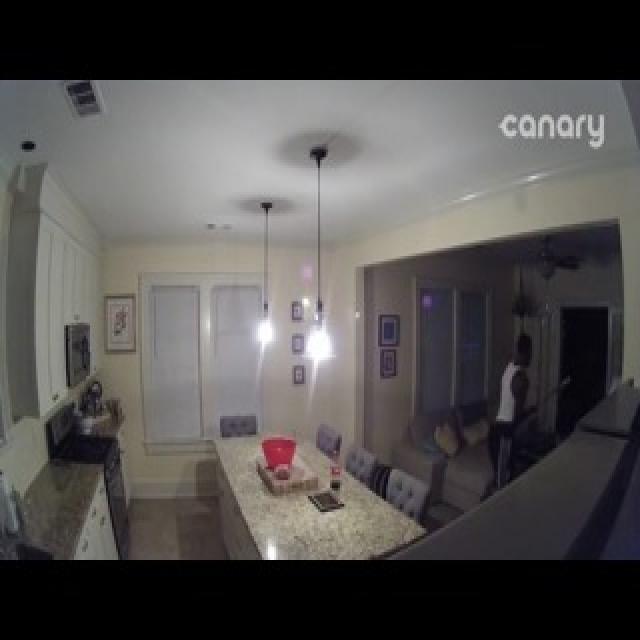thief: (495, 333, 539, 424)
